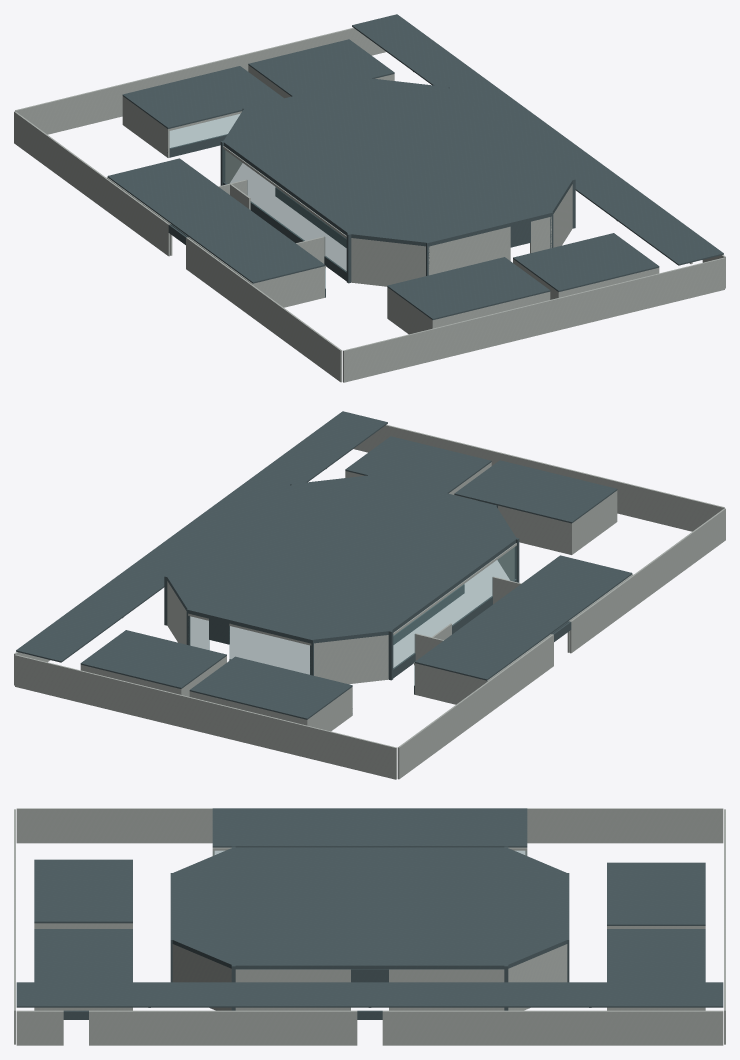
The model's file is AST-ENG-008.glb.
3 renders of one model, top to bottom at view 1: azimuth 30°, elevation 25°; view 2: azimuth 150°, elevation 25°; view 3: azimuth 270°, elevation 25°, orthographic. The views are drawn at different scales.
Parts seen in each view (by area): view 1: hall_faceted_soffit, east_street_ceiling, boundary_end_-398.15_wall0, visitor_ceiling, boundary_end_-465.85_wall0, workbay_ceiling, control_ceiling, boundary_west_wall2, boundary_west_wall0, clean_returns_ceiling, technical_staging_ceiling, hall_face_7_glass0 (+12 smaller); view 2: hall_faceted_soffit, east_street_ceiling, boundary_end_-465.85_wall0, visitor_ceiling, boundary_end_-398.15_wall0, control_ceiling, workbay_ceiling, boundary_west_wall0, boundary_west_wall2, technical_staging_ceiling, clean_returns_ceiling, hall_face_7_glass0 (+12 smaller); view 3: hall_faceted_soffit, east_street_ceiling, visitor_ceiling, boundary_east_n_wall0, boundary_east_n_wall2, boundary_west_wall0, boundary_west_wall2, workbay_ceiling, control_ceiling, technical_staging_ceiling, clean_returns_ceiling, hall_face_3_wall0 (+9 smaller).
Part boxes in pixels (x1,y1,x2,y2): hall_faceted_soffit: (223, 78, 572, 246); east_street_ceiling: (352, 14, 723, 265); boundary_end_-398.15_wall0: (343, 257, 724, 382); visitor_ceiling: (107, 158, 324, 283); boundary_end_-465.85_wall0: (15, 27, 385, 134); workbay_ceiling: (387, 257, 550, 319); control_ceiling: (122, 66, 283, 128); boundary_west_wall2: (186, 237, 342, 382); boundary_west_wall0: (14, 111, 169, 256); clean_returns_ceiling: (513, 233, 659, 291); technical_staging_ceiling: (248, 39, 394, 96); hall_face_7_glass0: (223, 149, 346, 271); hall_faceted_soffit: (167, 475, 516, 643); east_street_ceiling: (16, 411, 387, 662); boundary_end_-465.85_wall0: (15, 654, 396, 779); visitor_ceiling: (415, 555, 632, 680); boundary_end_-398.15_wall0: (354, 424, 724, 531); control_ceiling: (189, 656, 352, 719); workbay_ceiling: (454, 460, 617, 523); boundary_west_wall0: (397, 634, 553, 779); boundary_west_wall2: (570, 508, 725, 653); technical_staging_ceiling: (80, 630, 226, 688); clean_returns_ceiling: (345, 436, 491, 493); hall_face_7_glass0: (393, 546, 516, 668); hall_faceted_soffit: (170, 847, 569, 969); east_street_ceiling: (16, 982, 723, 1007); visitor_ceiling: (212, 808, 527, 847); boundary_east_n_wall0: (382, 1010, 723, 1045); boundary_east_n_wall2: (89, 1010, 357, 1045); boundary_west_wall0: (527, 808, 723, 843); boundary_west_wall2: (16, 808, 212, 843); workbay_ceiling: (34, 859, 132, 923); control_ceiling: (607, 862, 705, 925); technical_staging_ceiling: (607, 929, 705, 982); clean_returns_ceiling: (34, 929, 132, 982); hall_face_3_wall0: (389, 969, 504, 1010).
Size of the model in its own units: 45.88 by 5.52 by 67.88.
5 materials, 4 textured.
